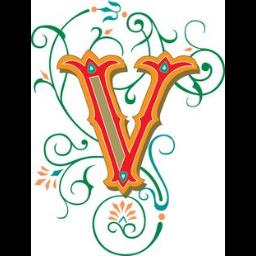v: (58, 50, 208, 202)
